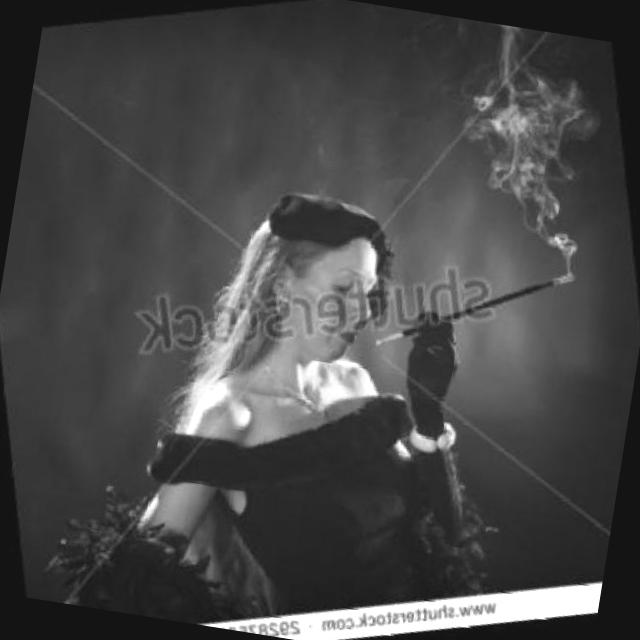cigarette: (552, 268, 579, 288)
